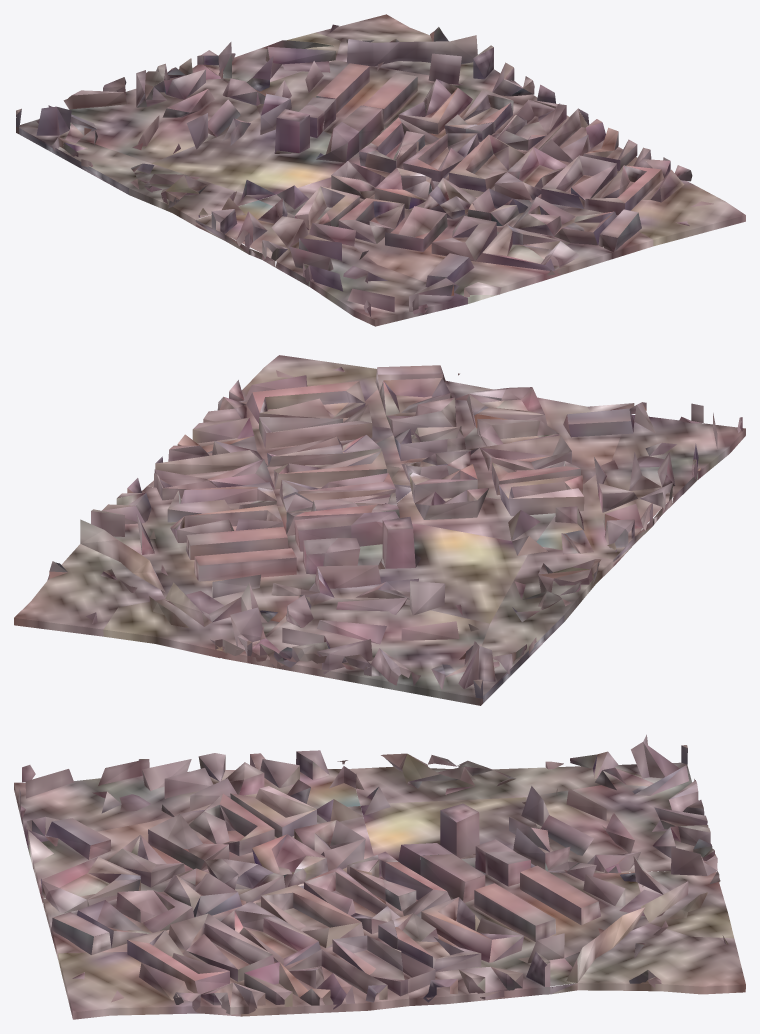
3 renders of one model, top to bottom at view 1: azimuth 30°, elevation 25°; view 2: azimuth 150°, elevation 25°; view 3: azimuth 270°, elevation 25°, orthographic. The views are drawn at different scales.
Parts seen in each view (by area): view 1: Mesh_0; view 2: Mesh_0; view 3: Mesh_0.
Part boxes in pixels (bbox=[...]): Mesh_0: bbox=[16, 14, 745, 326]; Mesh_0: bbox=[14, 355, 745, 705]; Mesh_0: bbox=[14, 734, 745, 1019].
Size of the model in its own units: 535 by 59.72 by 659.
2 materials, 2 textured.
